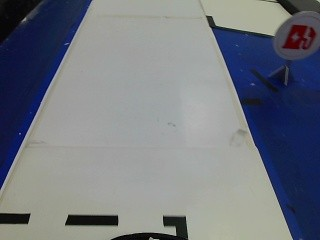battery: (276, 13, 318, 62)
